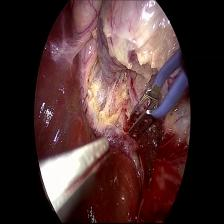Bipolar: (125, 46, 189, 147)
Grasper: (39, 132, 114, 223)
